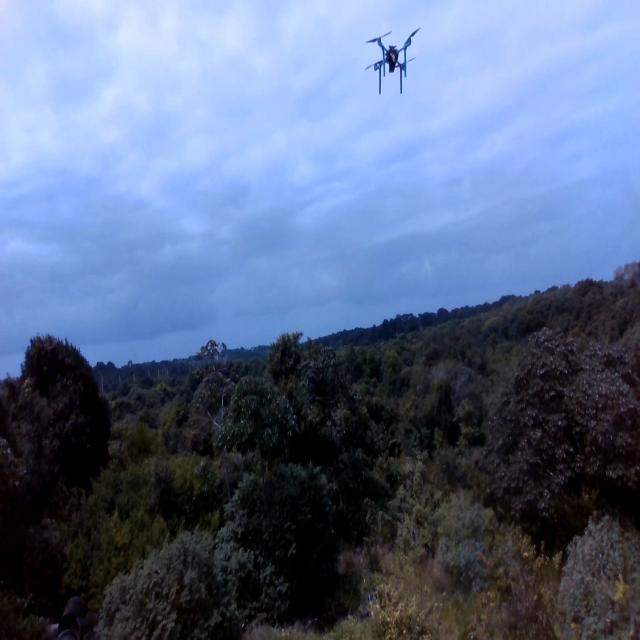-uav-: (355, 16, 425, 106)
